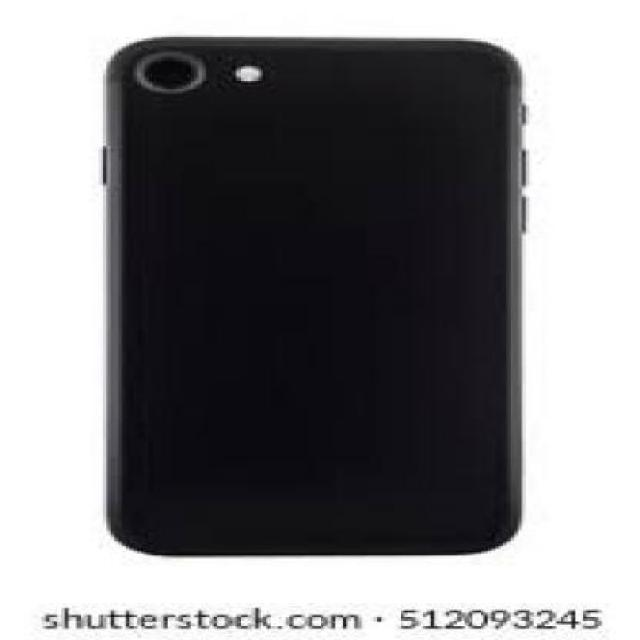phone: (106, 36, 526, 553)
